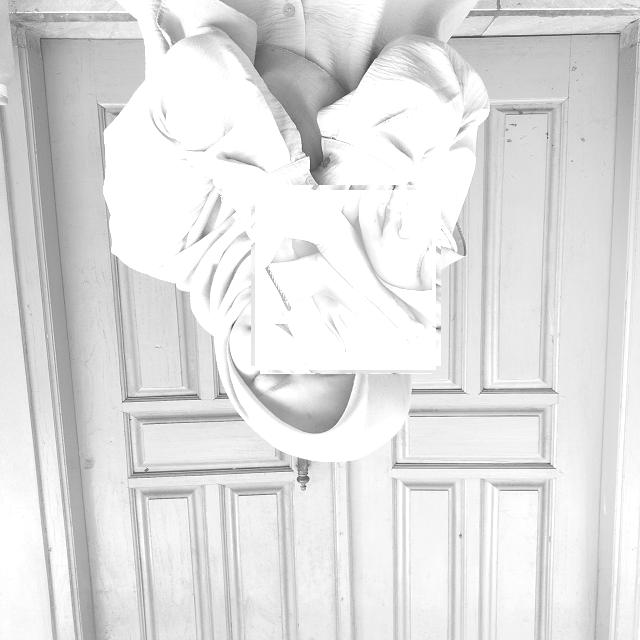tidur: (255, 190, 436, 370)
